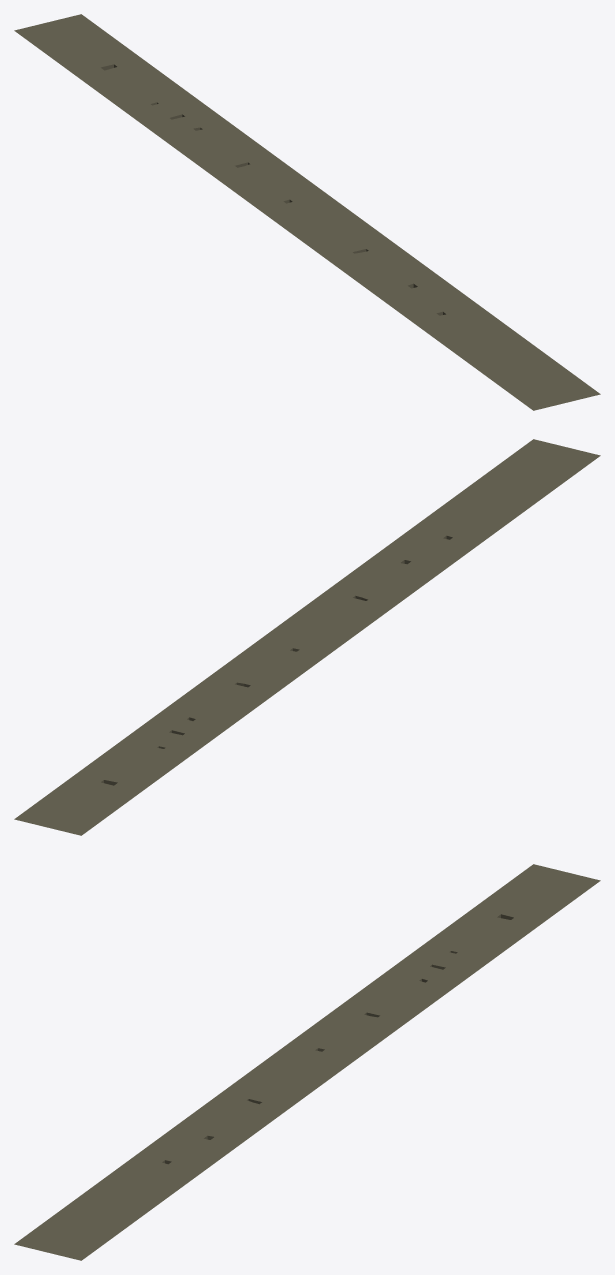
The model's file is oldpl.fbx.
The picture shows the model from 3 angles, top to bottom: view 1: azimuth 30°, elevation 25°; view 2: azimuth 150°, elevation 25°; view 3: azimuth 330°, elevation 25°; orthographic projection.
Visible parts, largest first — view 1: Plane; view 2: Plane; view 3: Plane.
Part boxes in pixels (left/top/right/bottom): Plane: left=14, top=14, right=600, bottom=410; Plane: left=14, top=439, right=600, bottom=835; Plane: left=14, top=864, right=600, bottom=1260.
Bounding box in the file's own units: 60 × 16.23 × 800.
